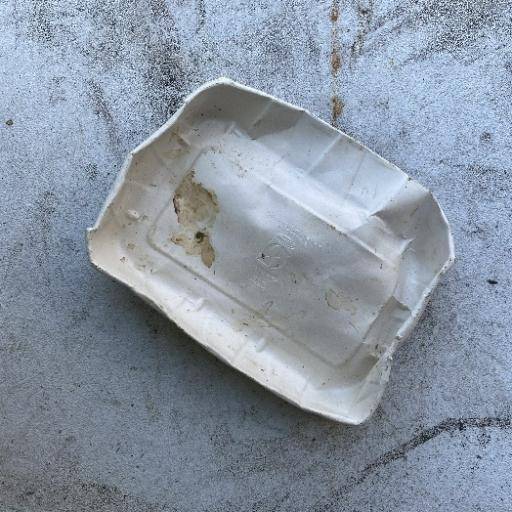Cardboard: (83, 76, 456, 427)
